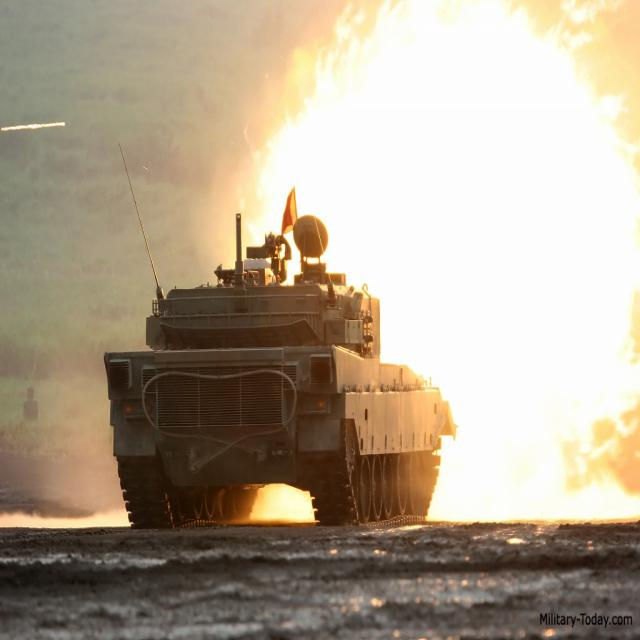Tank: (101, 250, 457, 531)
